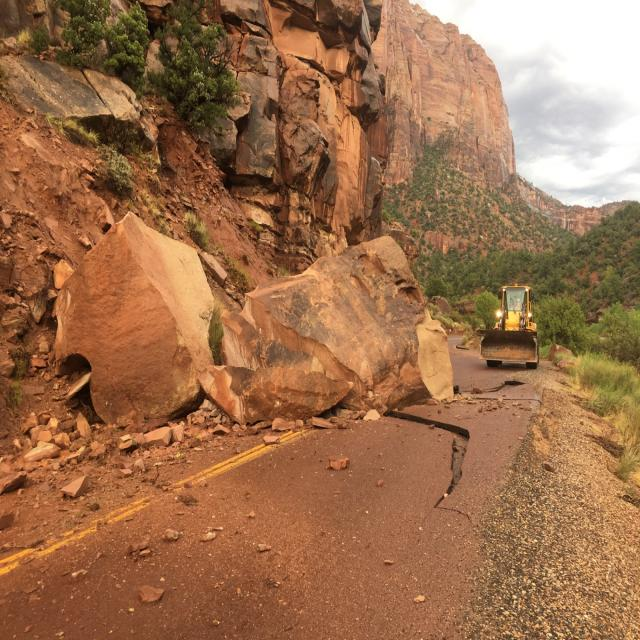landSliding: (20, 155, 472, 515)
